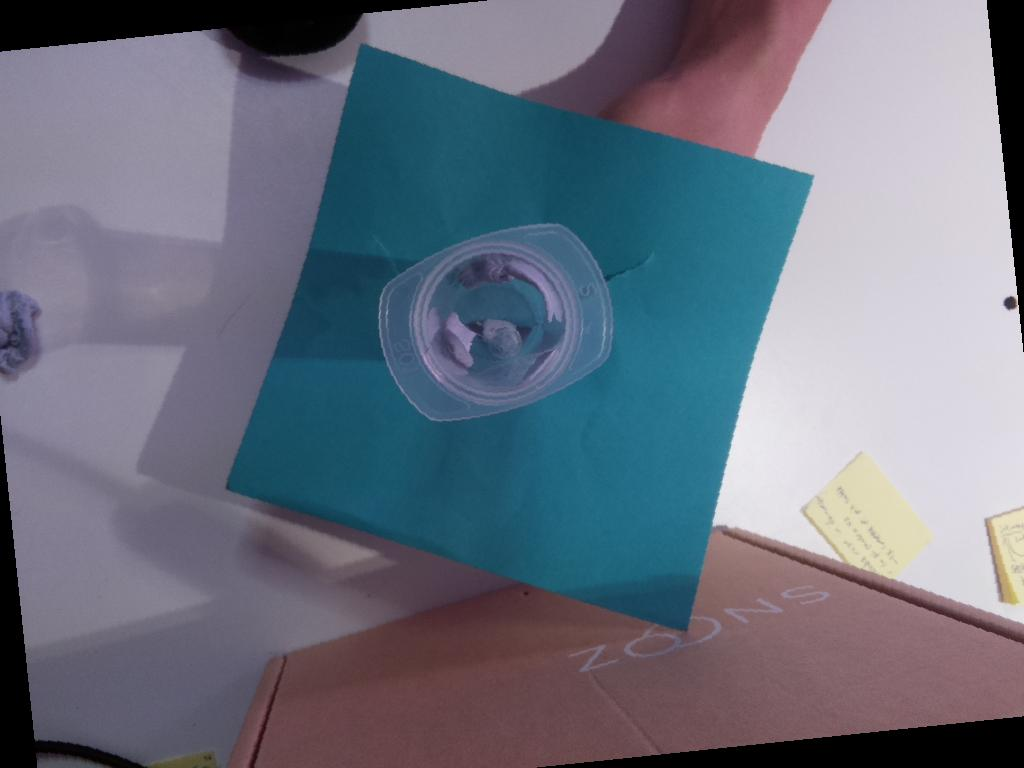dirty: (379, 224, 613, 422)
